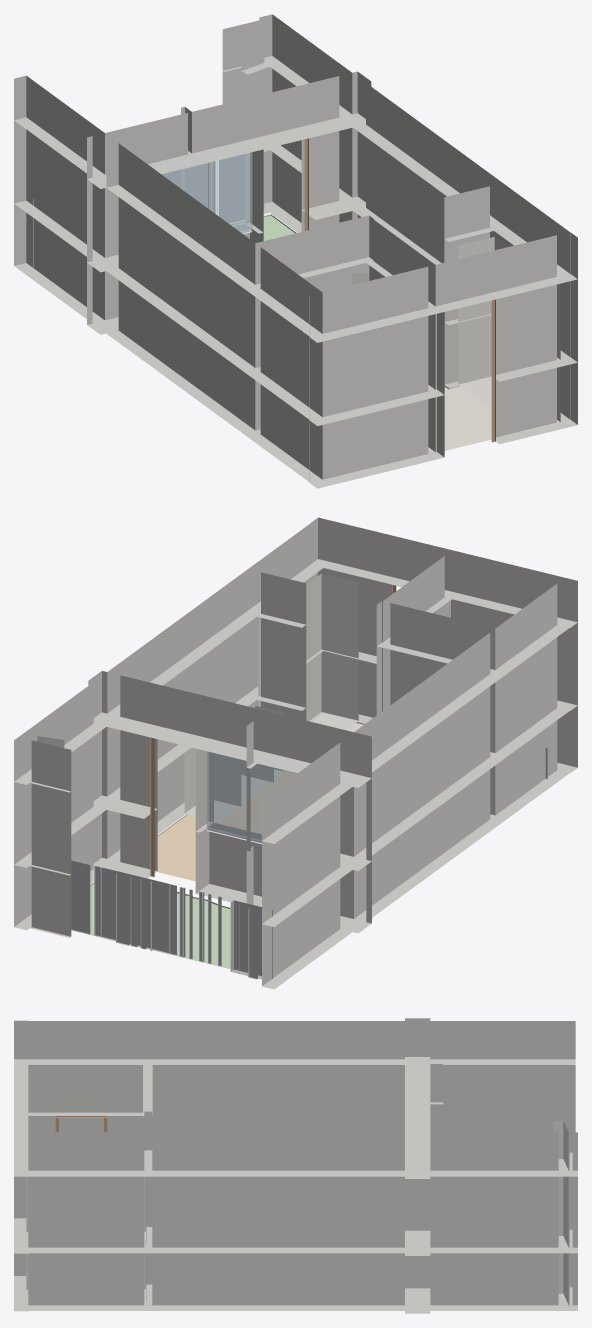
The picture shows the model from 3 angles, top to bottom: view 1: azimuth 30°, elevation 25°; view 2: azimuth 150°, elevation 25°; view 3: azimuth 270°, elevation 25°; orthographic projection. The views are drawn at different scales.
Visible parts, largest first — view 1: walls, furniture_0_closet, window_2, railings, floor_1_Entry, door_0, floor_3_Outdoor; view 2: walls, railings, furniture_0_closet, window_2, floor_0_Living_Room, floor_3_Outdoor, furniture_2_appliance, furniture_3_appliance, door_1; view 3: walls, furniture_0_closet.
Part boxes in pixels (x1,y1,x2,y2): walls: (14,14,577,488); furniture_0_closet: (458,236,560,431); window_2: (155,145,252,231); railings: (33,154,244,268); floor_1_Entry: (444,385,491,450); door_0: (449,299,495,442); floor_3_Outdoor: (230,214,296,240); walls: (14,517,577,989); railings: (71,860,272,980); furniture_0_closet: (258,573,358,730); window_2: (206,751,302,841); floor_0_Living_Room: (157,770,296,881); floor_3_Outdoor: (72,882,230,969); furniture_2_appliance: (184,747,240,821); furniture_3_appliance: (241,760,273,802); door_1: (150,737,154,877); walls: (14,1018,577,1313); furniture_0_closet: (26,1176,146,1300).
Size of the model in its own units: 4.08 by 2.72 by 7.97.
